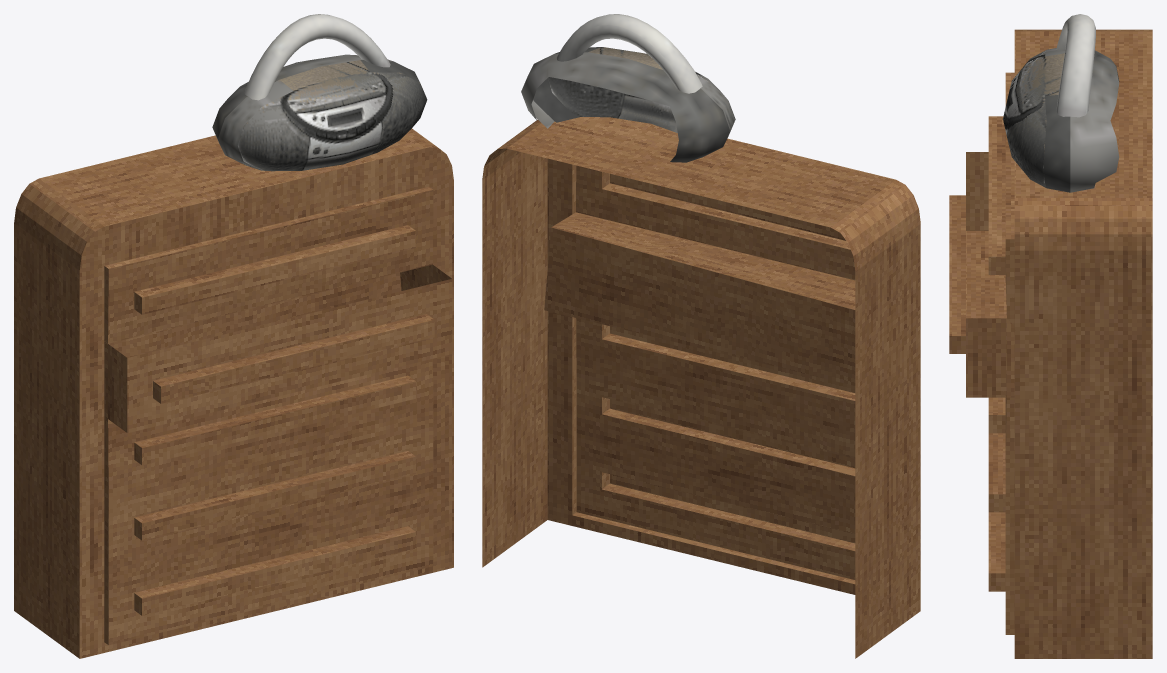
Rendered from Music.glb.
3 views of the same model, side by side, from view 1: azimuth 30°, elevation 25°; view 2: azimuth 150°, elevation 25°; view 3: azimuth 270°, elevation 25° (orthographic). The views are drawn at different scales.
Visible parts, largest first — view 1: SmallKast, BézierCircle; view 2: SmallKast, BézierCircle; view 3: SmallKast, BézierCircle.
Part boxes in pixels (<box>): SmallKast: <box>14,128,453,658</box>; BézierCircle: <box>212,14,427,171</box>; SmallKast: <box>482,117,920,658</box>; BézierCircle: <box>521,14,735,162</box>; SmallKast: <box>949,29,1152,658</box>; BézierCircle: <box>1003,14,1119,192</box>.
Size of the model in its own units: 2.31 by 3.27 by 1.03.
Materials: 2 (2 with a texture image).
